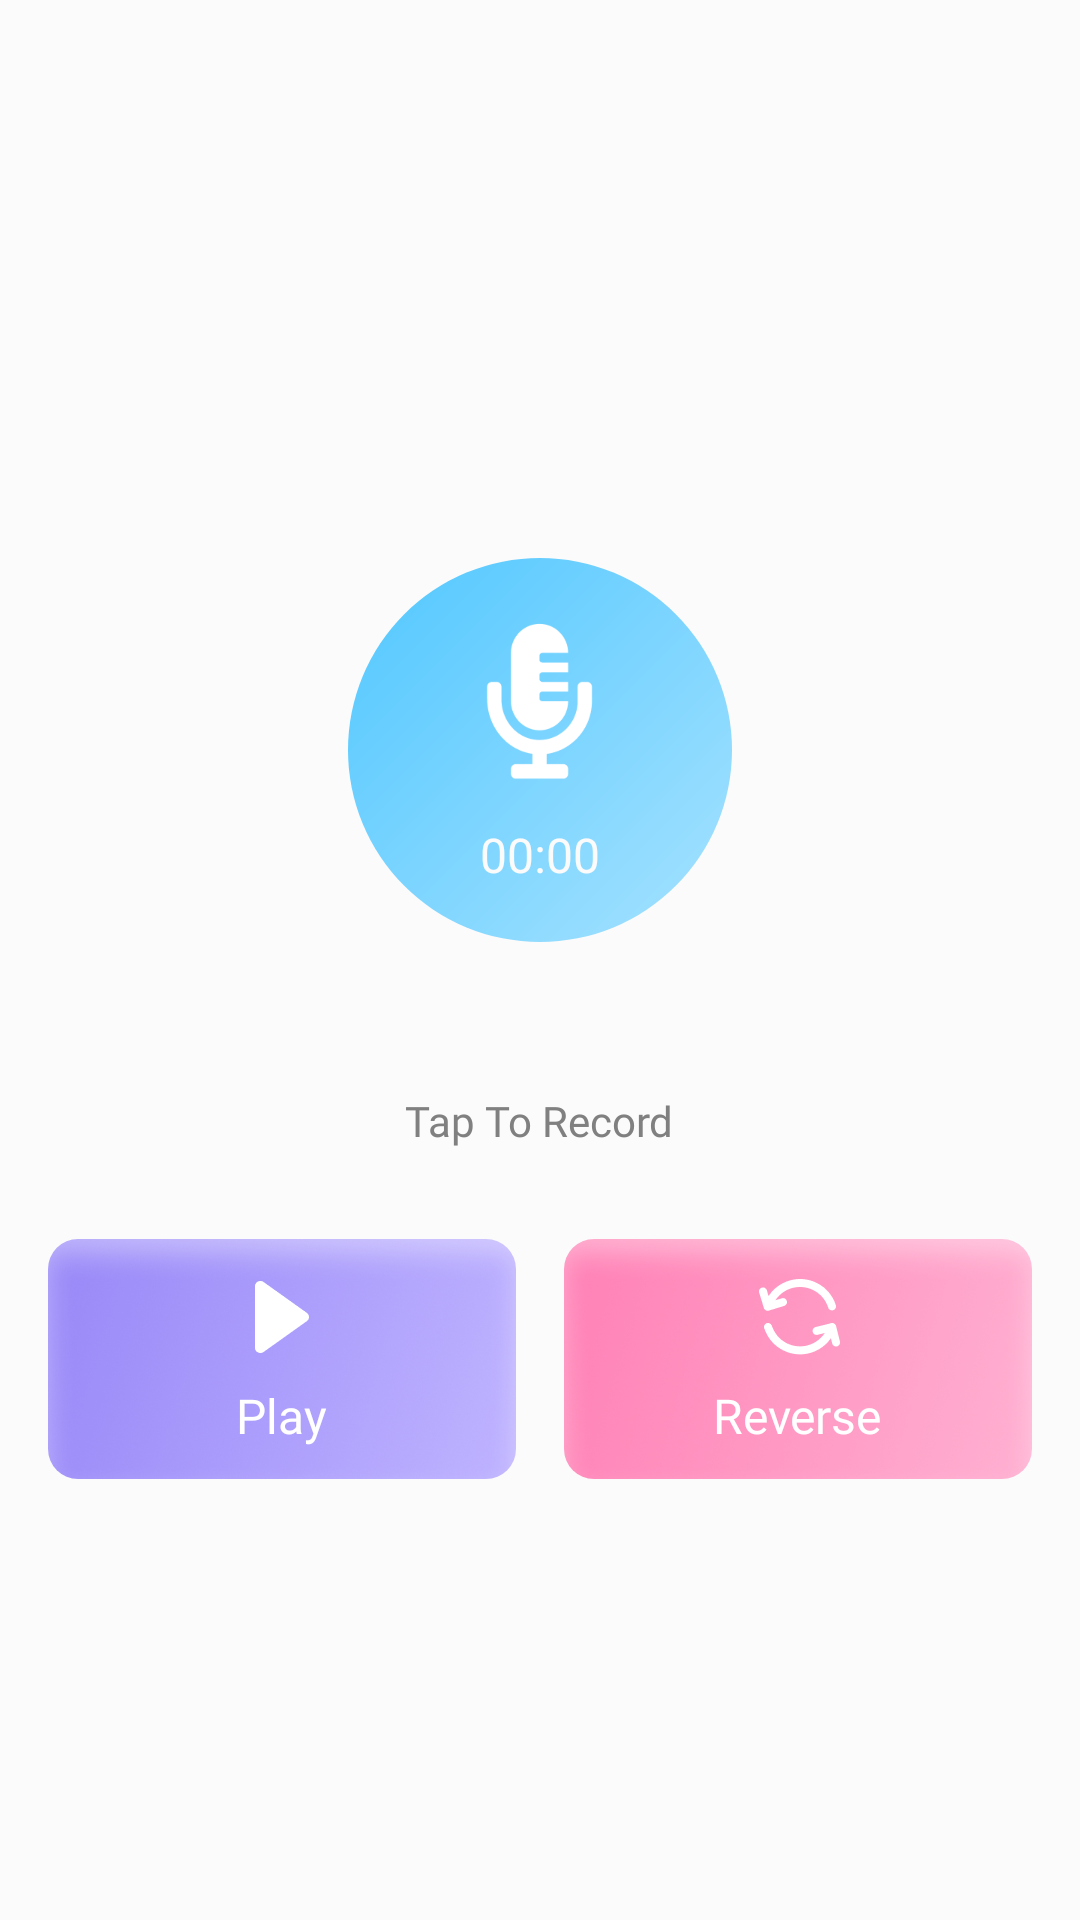

Where to tap for icons on this 1080 × 1920 app screen, as [x,y]:
mic: [540,701]
